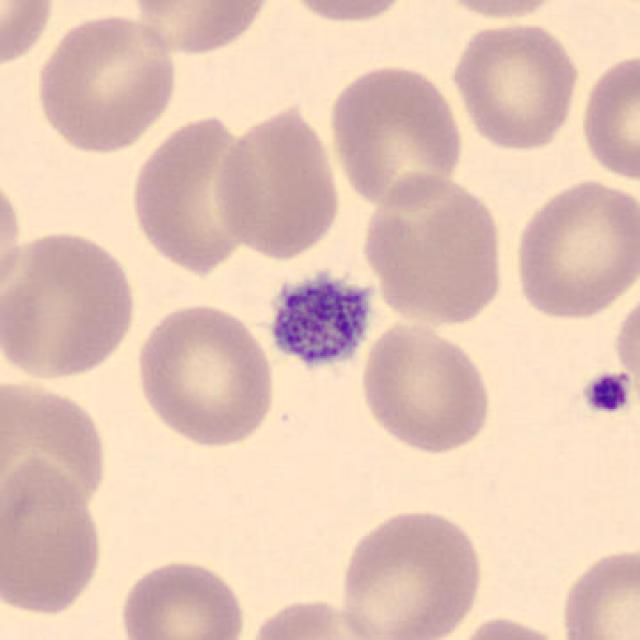Platelets: (263, 268, 375, 376), (580, 368, 634, 418)
RBC: (358, 168, 510, 330), (125, 109, 263, 275), (208, 97, 345, 263), (0, 226, 142, 386), (132, 298, 279, 451), (32, 9, 181, 157), (323, 60, 468, 210), (334, 504, 487, 640), (356, 317, 496, 457), (508, 175, 638, 322), (446, 16, 583, 153), (0, 455, 107, 620), (0, 372, 114, 515), (113, 553, 250, 640), (576, 47, 638, 187), (128, 0, 276, 58), (556, 543, 638, 640), (242, 592, 405, 640), (0, 0, 59, 74), (0, 164, 27, 309), (610, 280, 640, 408), (273, 0, 419, 26), (443, 612, 574, 640), (428, 0, 572, 23), (586, 0, 640, 17)
